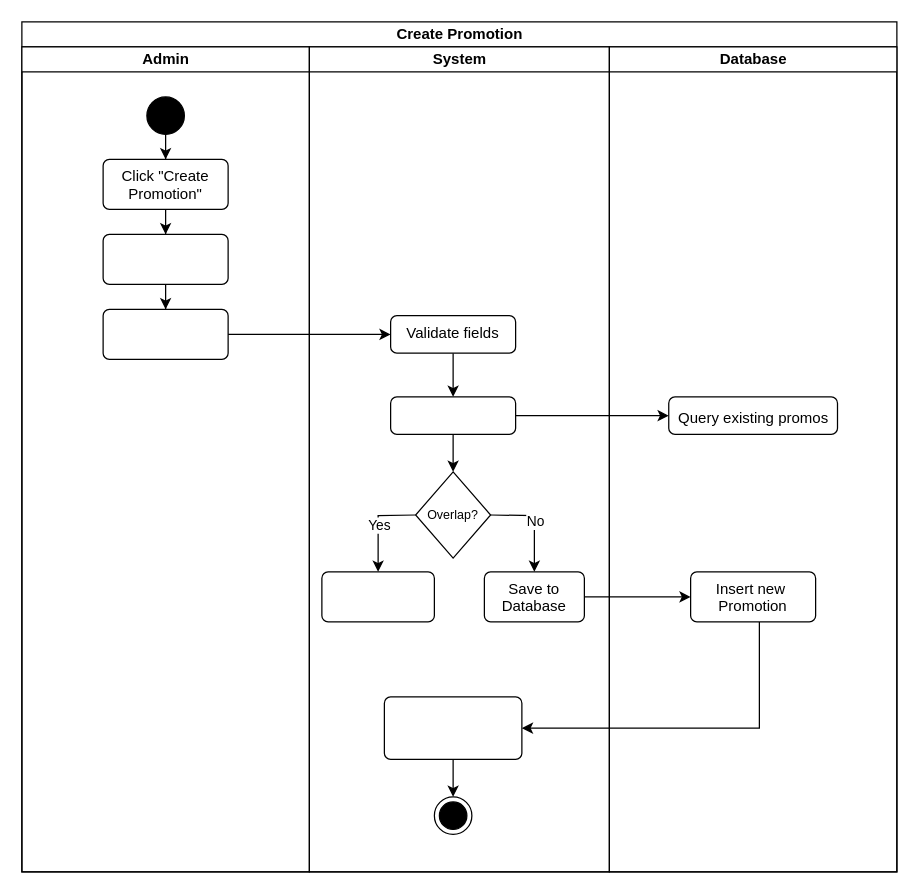
Image size: 919x894. Some labels were removed from this diagram. Here are the shapes that lost their labels. From the top down, the centre of each, then its label:
the point at 165,258: Enter promo details/images
the point at 165,333: Click "Save"
the point at 452,415: Check for overlap
the point at 377,596: Warn: "Conflict with another promo"
the point at 452,727: Show "Promotion created"
